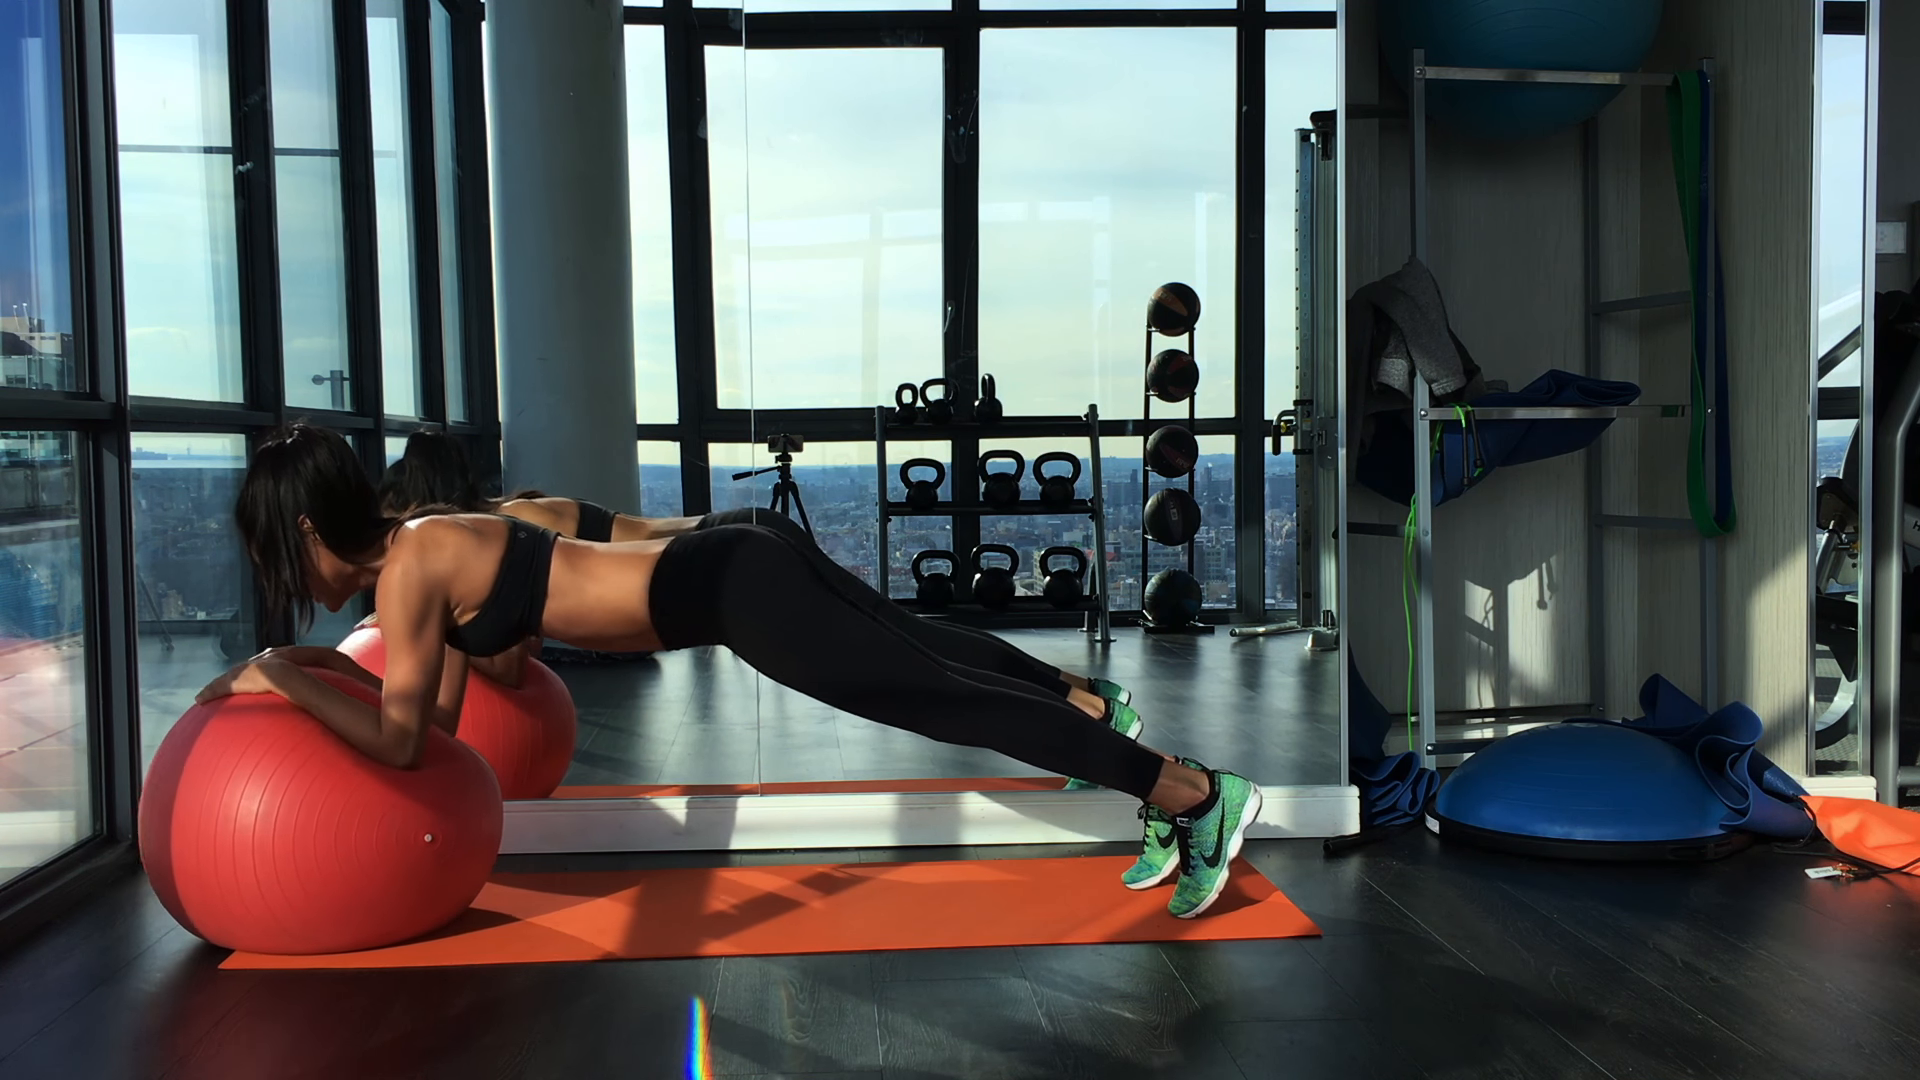yogaball: (131, 654, 512, 953)
